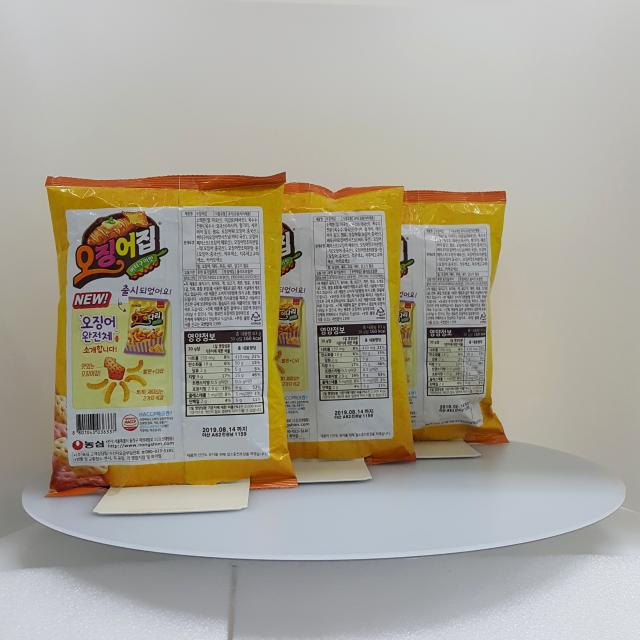-83G: (43, 172, 300, 498), (253, 183, 417, 467), (340, 190, 509, 446)
